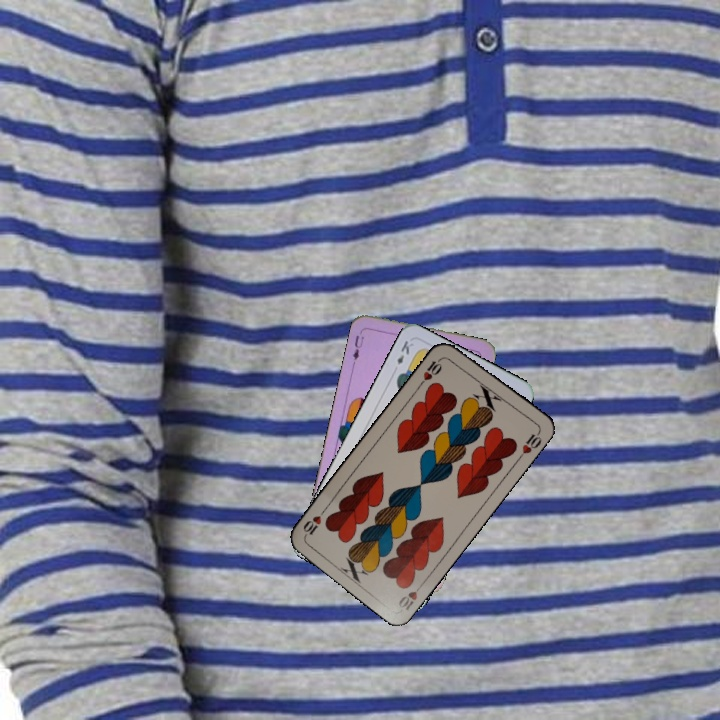EK: (393, 337, 416, 367)
EU: (348, 331, 367, 363)
H10: (394, 578, 427, 613), (416, 353, 446, 388)
